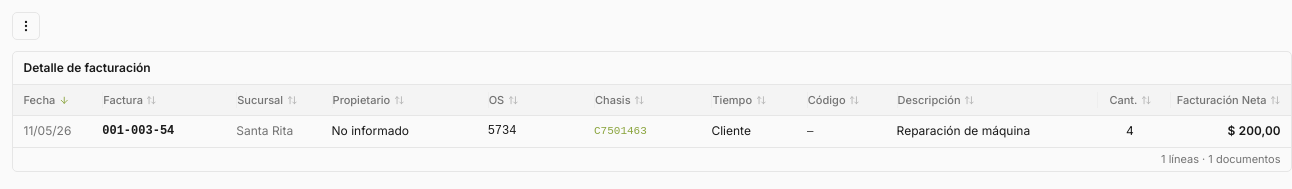
Test case: invoice line detail › reports export failure and permits a retry without falsely claiming a download
Check: the text "1 líneas · 1 documentos" is shown, box [1161,151,1280,168]
Press Enter in the button named "Acciones de la sección", box [12,12,40,40]
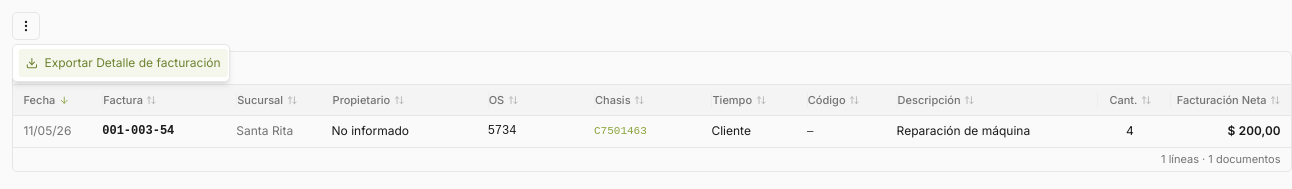
Click the menu item "Exportar Detalle de facturación".
click(123, 63)  # box [18,48,228,77]
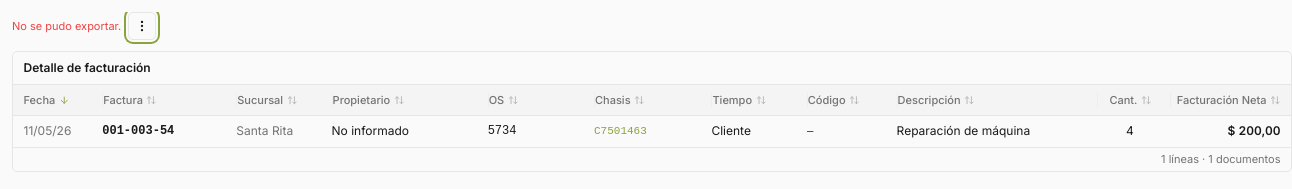
Check: the message reads "No se pudo exportar.", box [12,19,121,33]
Press Enter in the button named "Acciones de la sección", box [128,12,156,40]
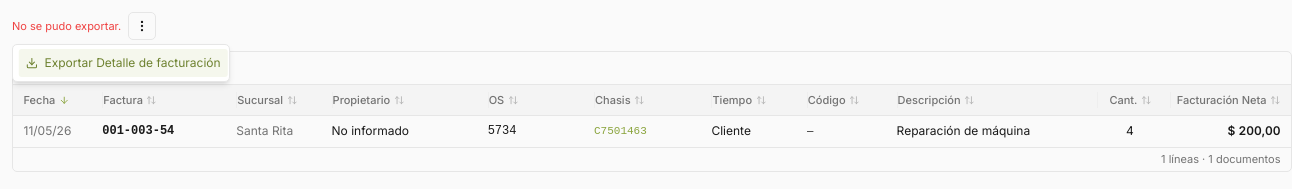
Click the menu item "Exportar Detalle de facturación".
click(123, 63)  # box [18,48,228,77]
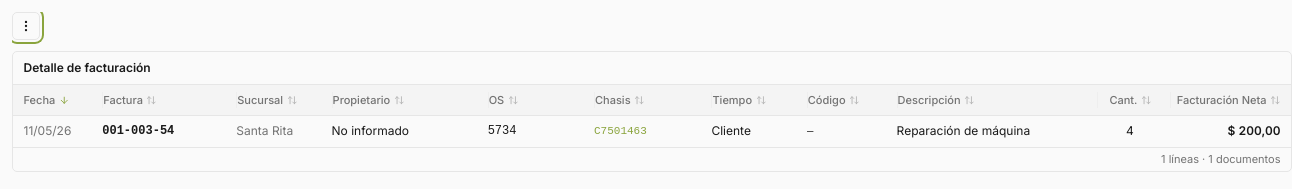
Check: the message "No se pudo exportar." is gone
